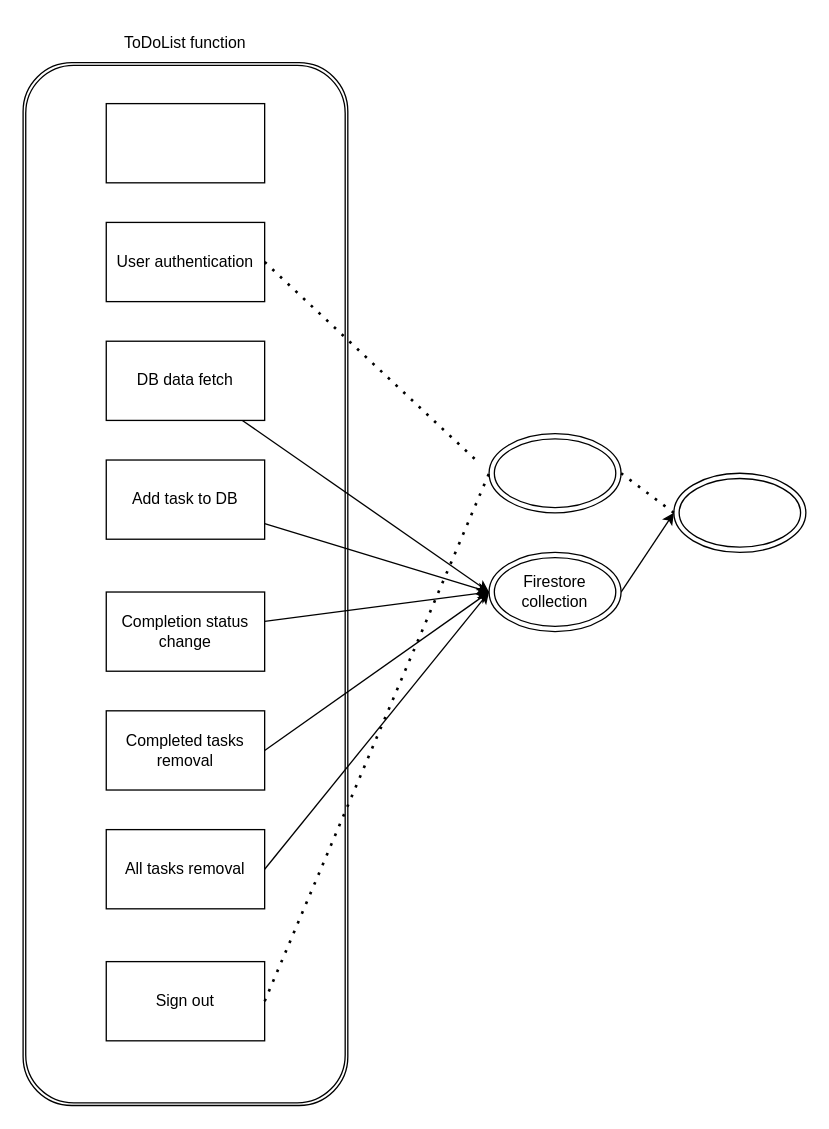
This 829x1129 diagram has some shape labels left out. The centre of each missing label's shape, as x and y in pixels:
"Auth" belongs at (x=554, y=472).
"Firebase" belongs at (x=739, y=512).
"Hooks" belongs at (x=185, y=142).
